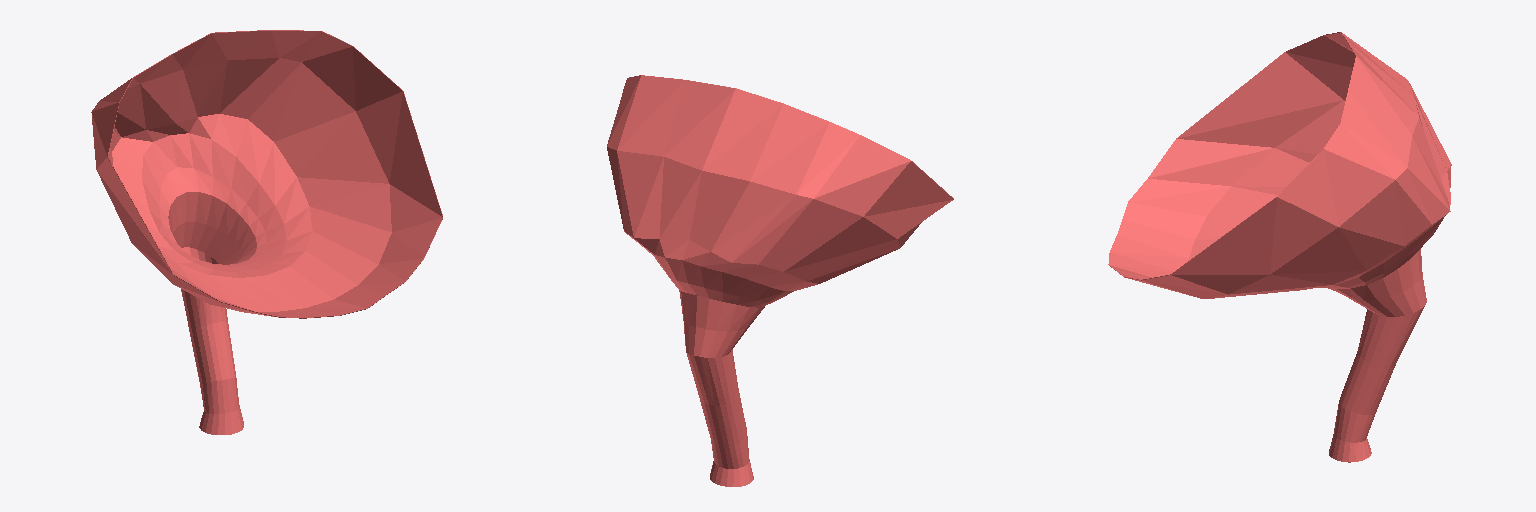
Rendered from meshuteromodificado.obj.
3 renders of one model, left to right at view 1: azimuth 30°, elevation 25°; view 2: azimuth 150°, elevation 25°; view 3: azimuth 270°, elevation 25°, orthographic.
Visible parts, largest first — view 1: caso_1:vagina1_Mesh.002; view 2: caso_1:vagina1_Mesh.002; view 3: caso_1:vagina1_Mesh.002.
Part boxes in pixels (x1,y1,x2,y2): caso_1:vagina1_Mesh.002: (91,30,442,434); caso_1:vagina1_Mesh.002: (607,75,953,486); caso_1:vagina1_Mesh.002: (1108,32,1451,462).
Bounding box in the file's own units: 6.53 × 8.42 × 6.65.